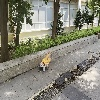fire: (41, 53, 51, 65)
